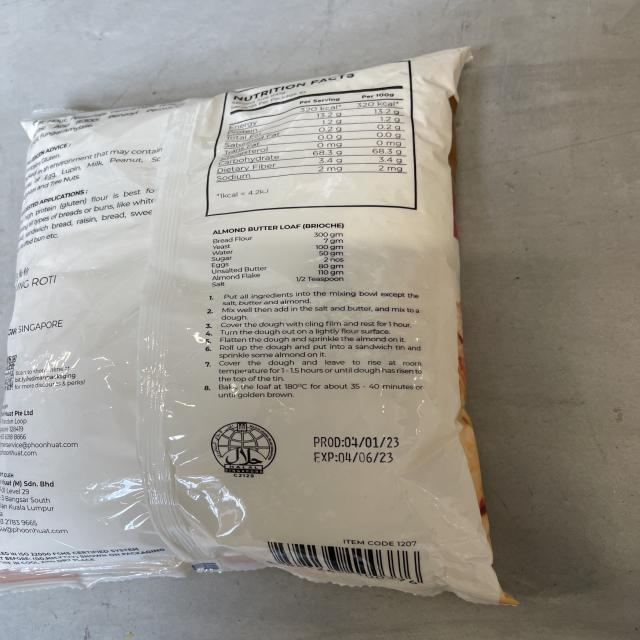object_name: (24, 79, 452, 595)
